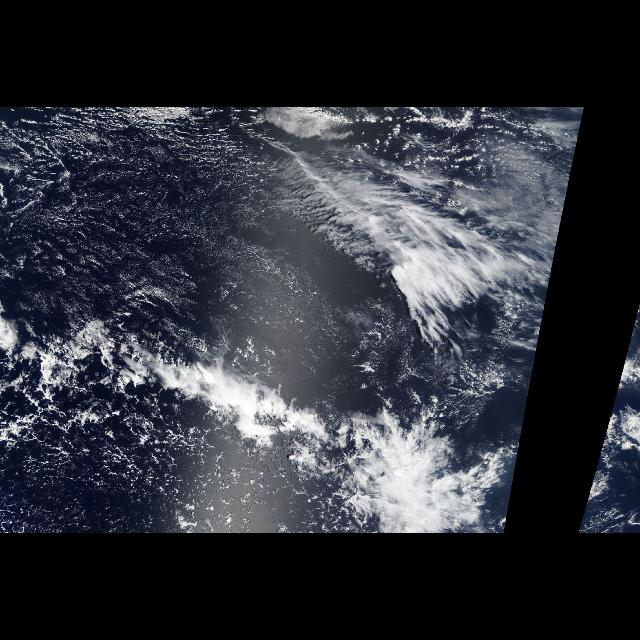Gravel: (1, 398, 265, 530)
Sugar: (1, 108, 331, 364)
